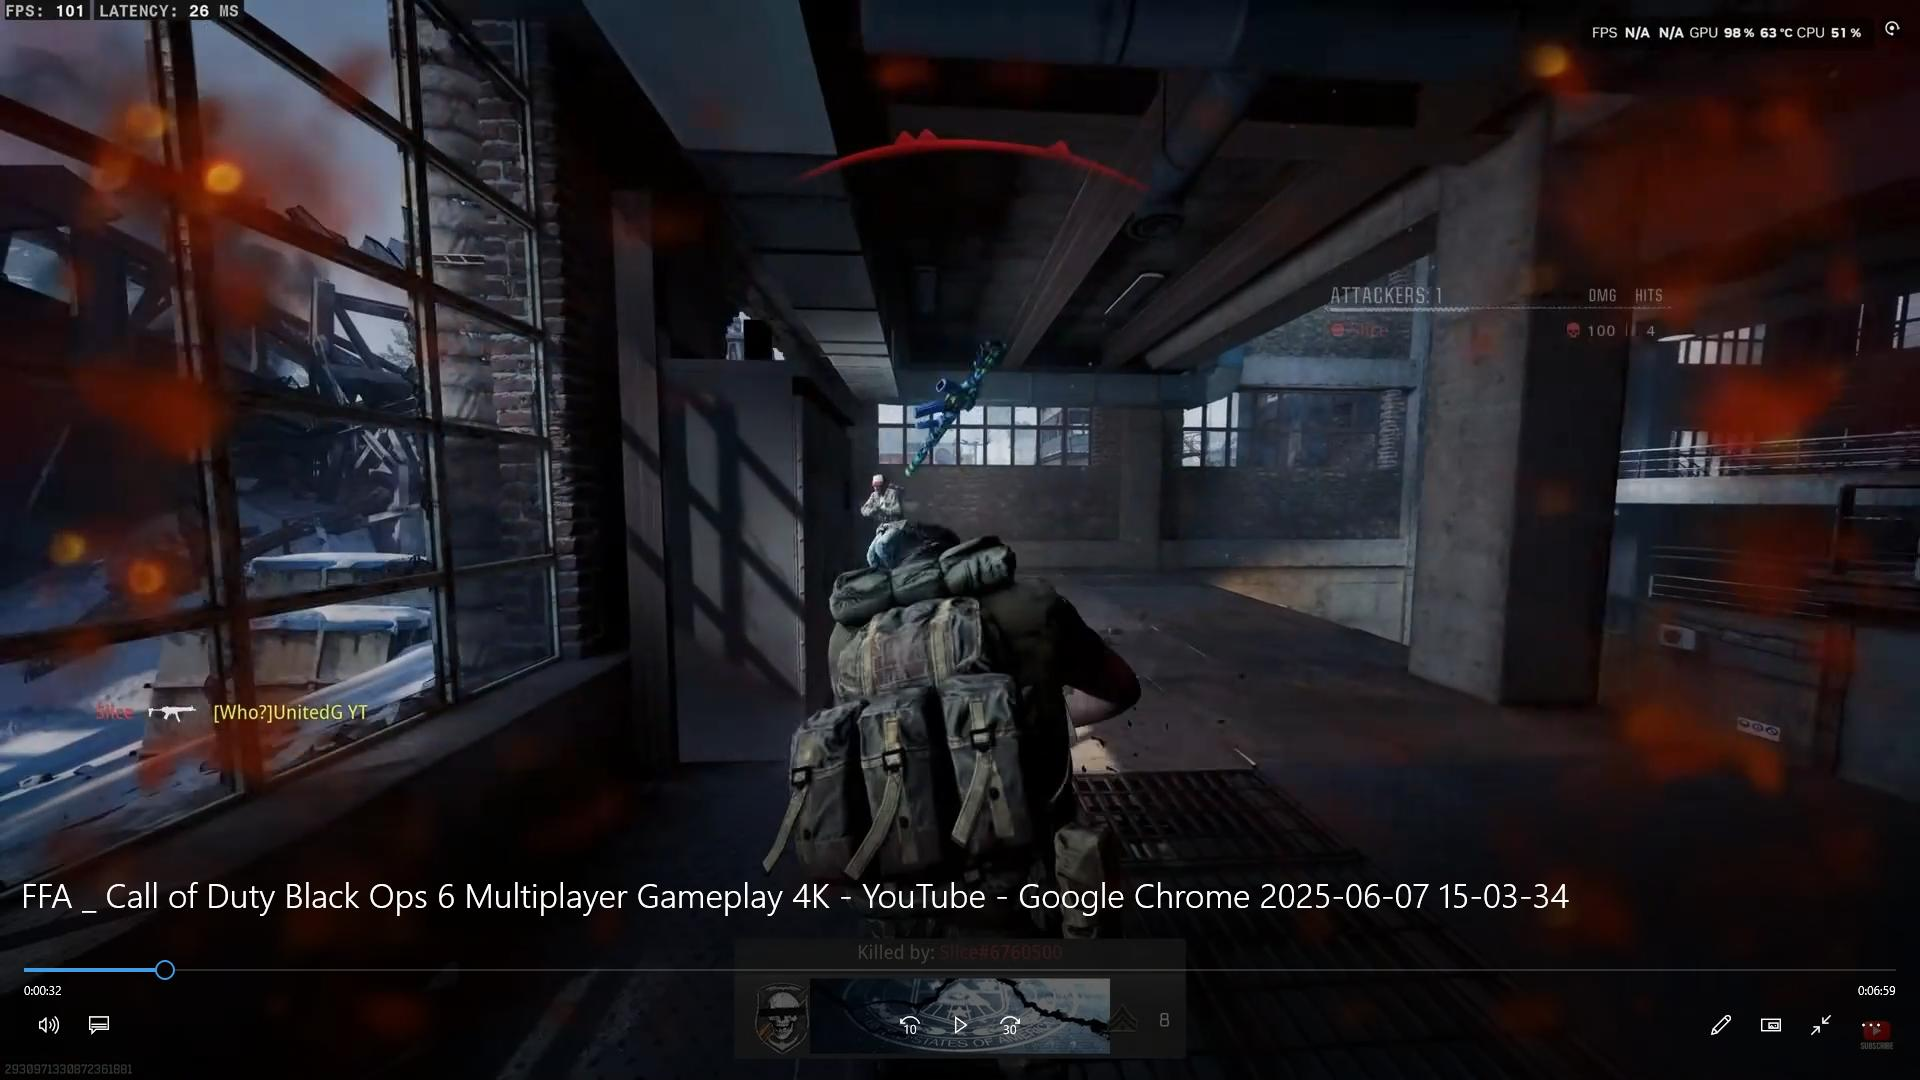Enemy: (855, 464, 899, 560)
